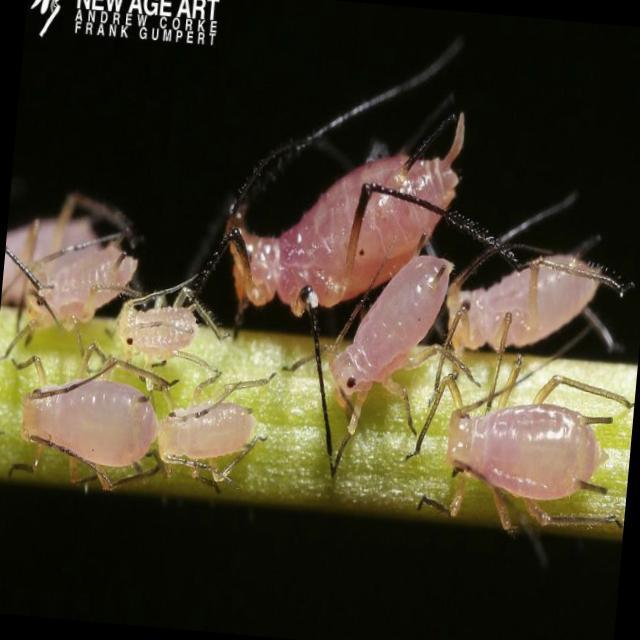aphid: (209, 108, 460, 352), (437, 190, 640, 388), (311, 235, 466, 467), (0, 329, 176, 511), (418, 370, 616, 520), (0, 217, 150, 354), (146, 364, 272, 501), (102, 275, 228, 384)
